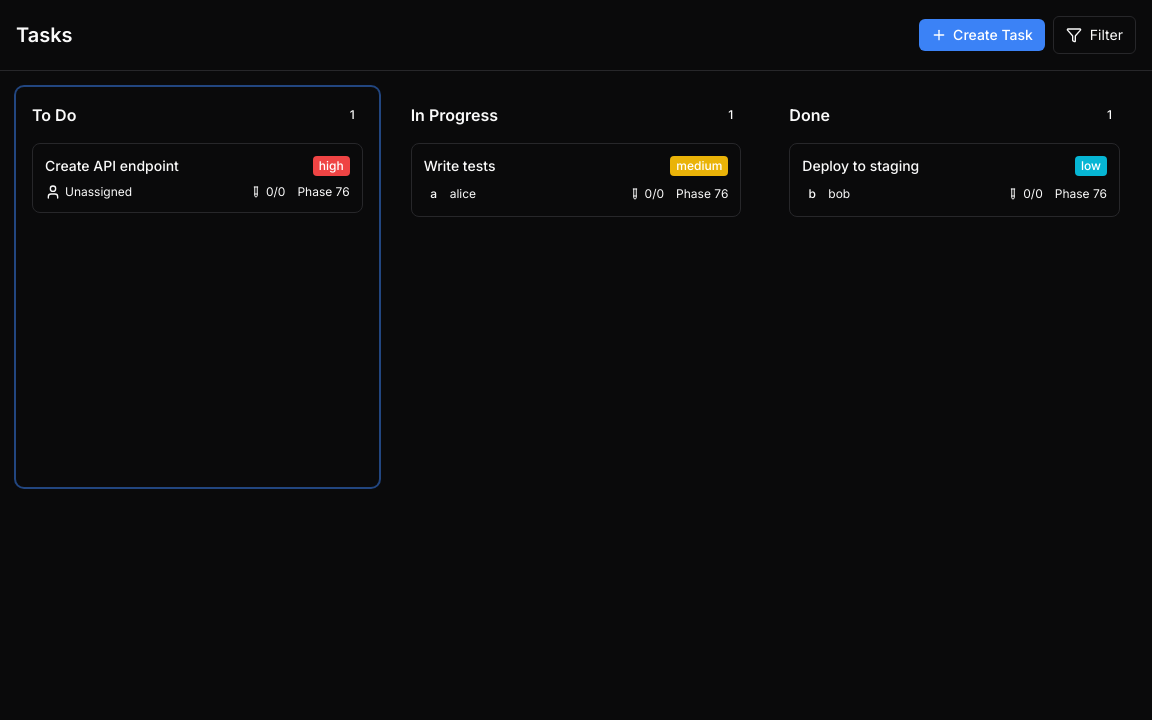
Scenario: TasksPage › Create Task opens form
The image size is (1152, 720).
Click the button with test id "create-task-btn": coordinates (982, 35) x1=919 y1=19 x2=1045 y2=51
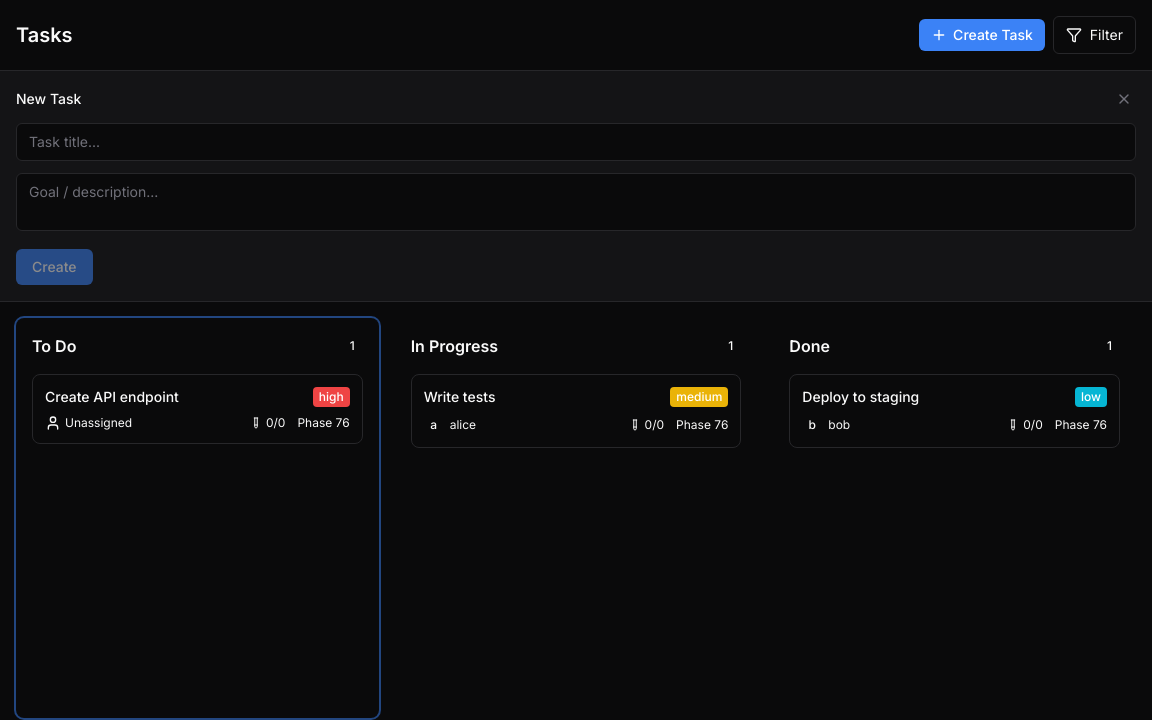
Result: the element with test id "task-create-form" is shown at x1=0 y1=71 x2=1151 y2=302
